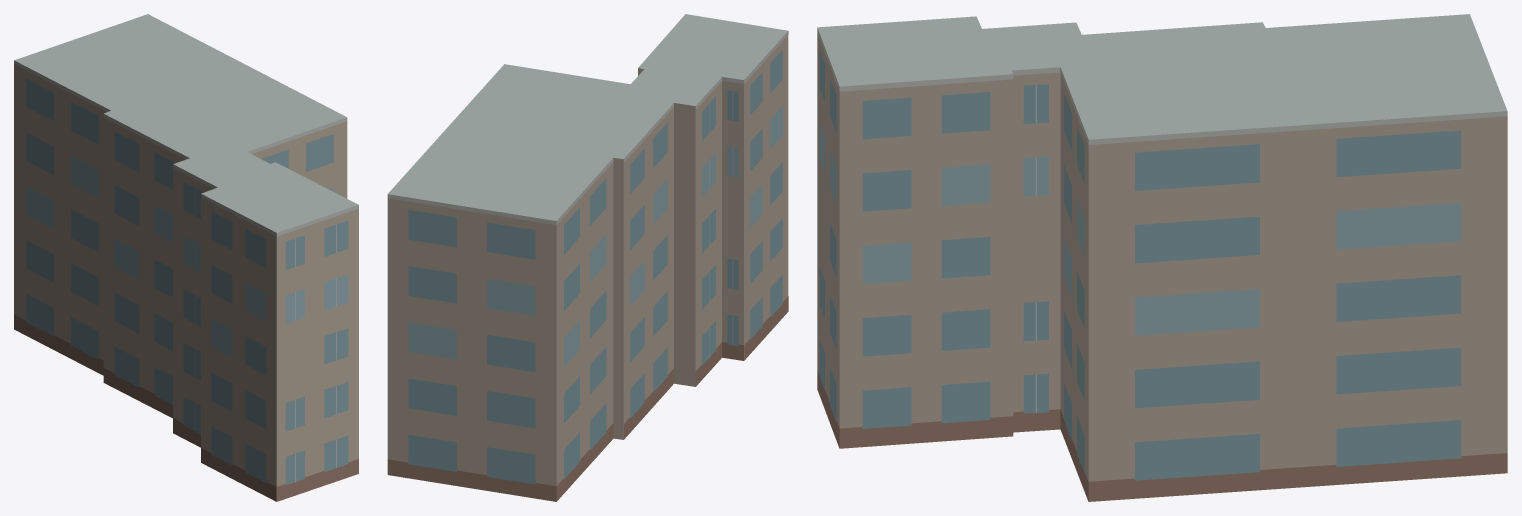
Rendered from survey-upis-32574681.glb.
3 views of the same model, side by side, from view 1: azimuth 30°, elevation 25°; view 2: azimuth 150°, elevation 25°; view 3: azimuth 270°, elevation 25° (orthographic). The views are drawn at different scales.
Visible parts, largest first — view 1: survey-upis-32574681.tmp; view 2: survey-upis-32574681.tmp; view 3: survey-upis-32574681.tmp.
Part boxes in pixels (left/top/right/bottom): survey-upis-32574681.tmp: left=14, top=14, right=358, bottom=501; survey-upis-32574681.tmp: left=387, top=14, right=788, bottom=501; survey-upis-32574681.tmp: left=817, top=14, right=1507, bottom=501.
Bounding box in the file's own units: 12.75 × 17.1 × 29.55.
